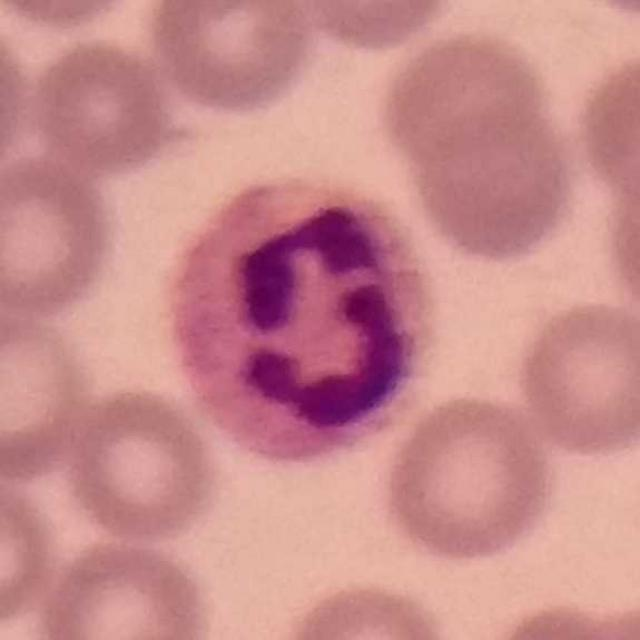Neutrophil: (153, 158, 431, 478)
RBC: (380, 26, 586, 268), (375, 390, 562, 568), (59, 382, 225, 548), (23, 33, 177, 176), (143, 0, 320, 119), (512, 296, 640, 459), (0, 150, 120, 322), (34, 534, 218, 640), (0, 302, 97, 480), (272, 575, 464, 640), (570, 44, 640, 220), (282, 0, 464, 55), (0, 472, 60, 632), (597, 138, 640, 326), (476, 594, 638, 640), (0, 13, 36, 185), (1, 0, 145, 36)
